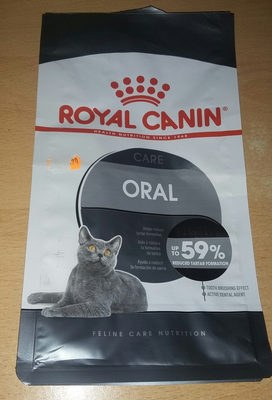Oral Care: (14, 20, 258, 380)
